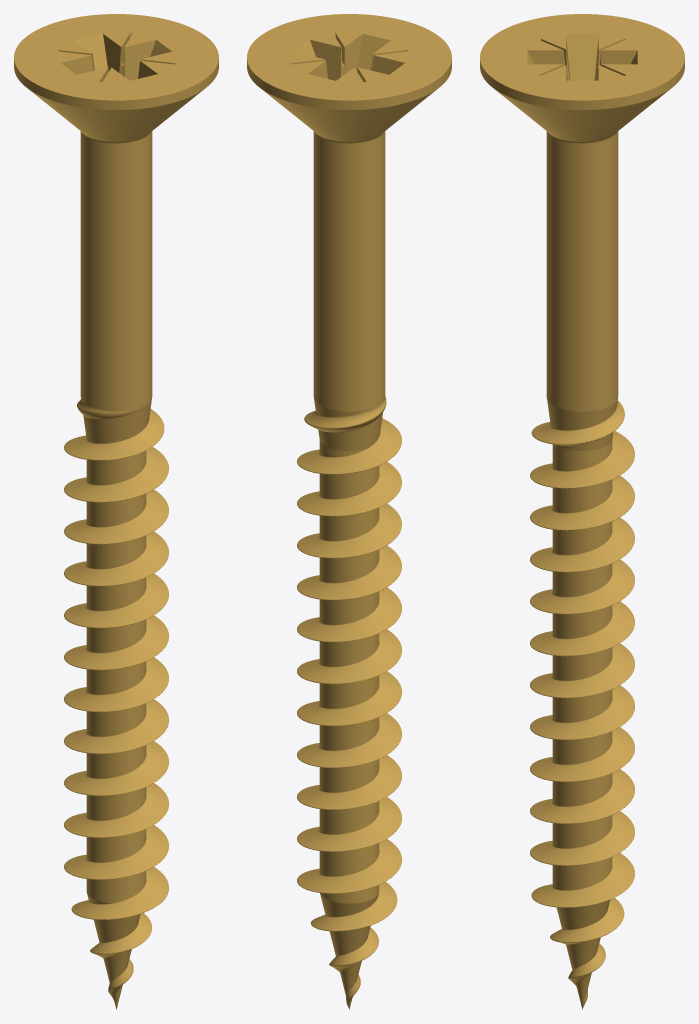
Rendered from model_full.glb.
The picture shows the model from 3 angles, left to right: view 1: azimuth 30°, elevation 25°; view 2: azimuth 150°, elevation 25°; view 3: azimuth 270°, elevation 25°; orthographic projection.
Visible parts, largest first — view 1: geometry_0; view 2: geometry_0; view 3: geometry_0.
Part boxes in pixels (x1=…): geometry_0: x1=14, y1=14, x2=218, y2=1009; geometry_0: x1=247, y1=14, x2=451, y2=1009; geometry_0: x1=480, y1=14, x2=684, y2=1009.
Size of the model in its own units: 0.00975 by 0.05 by 0.00975.
